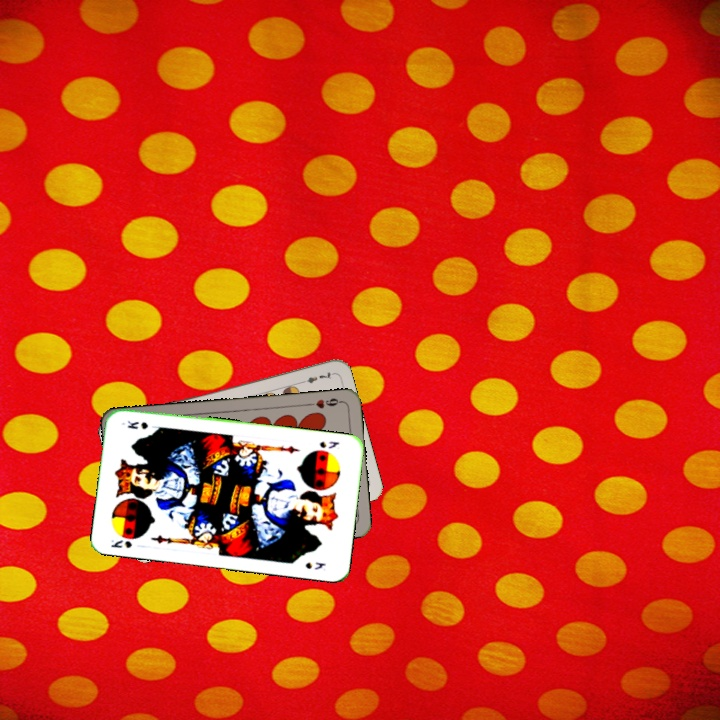E7: (295, 368, 335, 386)
H9: (304, 394, 344, 411)
SK: (107, 536, 134, 550), (316, 437, 342, 451)
